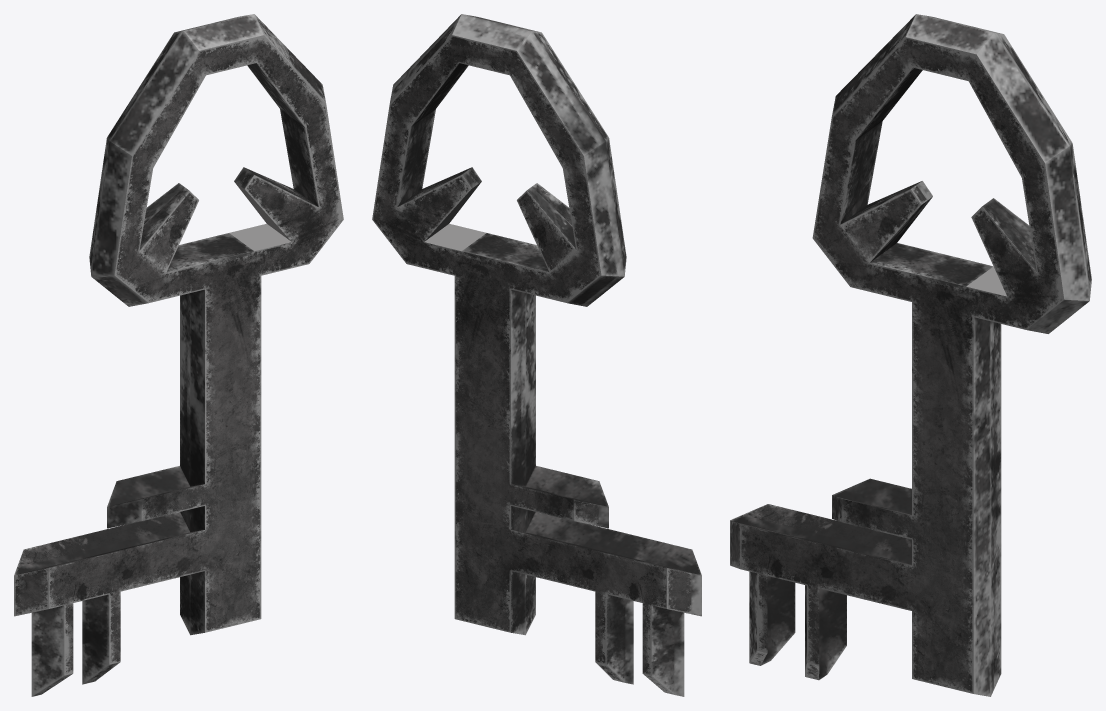
File: weirdkey_textured_rae.fbx
3 views of the same model, side by side, from view 1: azimuth 30°, elevation 25°; view 2: azimuth 150°, elevation 25°; view 3: azimuth 330°, elevation 25° (orthographic). The views are drawn at different scales.
Visible parts, largest first — view 1: wtf_key; view 2: wtf_key; view 3: wtf_key.
Boxes of the visible parts, box(x1,y1,x2,y2) form: wtf_key: box(14, 14, 343, 696); wtf_key: box(372, 14, 701, 696); wtf_key: box(730, 14, 1091, 696).
Size of the model in its own units: 6.58 by 12.06 by 0.8755.
Materials: 1 (1 with a texture image).
